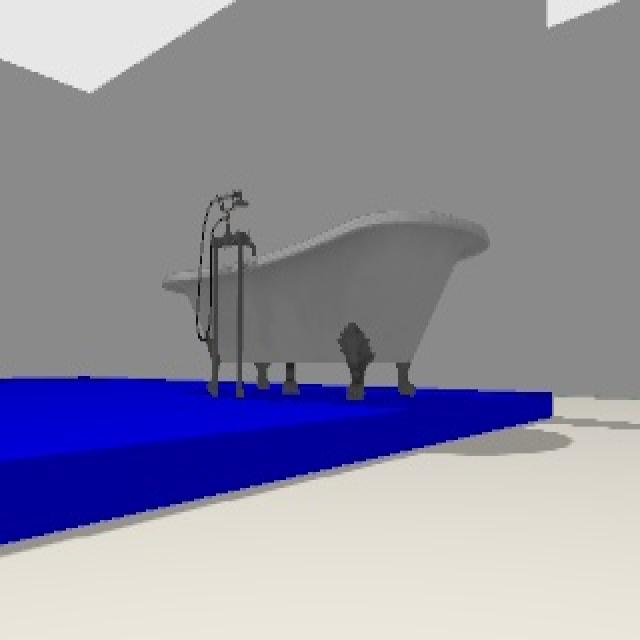bathtub: (159, 186, 489, 402)
